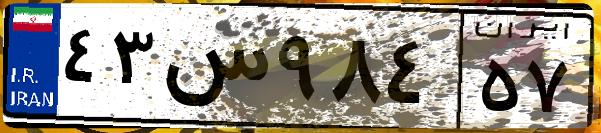3: (110, 28, 158, 98)
4: (385, 28, 445, 110), (57, 26, 110, 100)
5: (475, 38, 525, 113)
7: (525, 38, 570, 115)
8: (330, 28, 385, 110)
9: (270, 28, 330, 110)
س: (158, 20, 270, 120)
